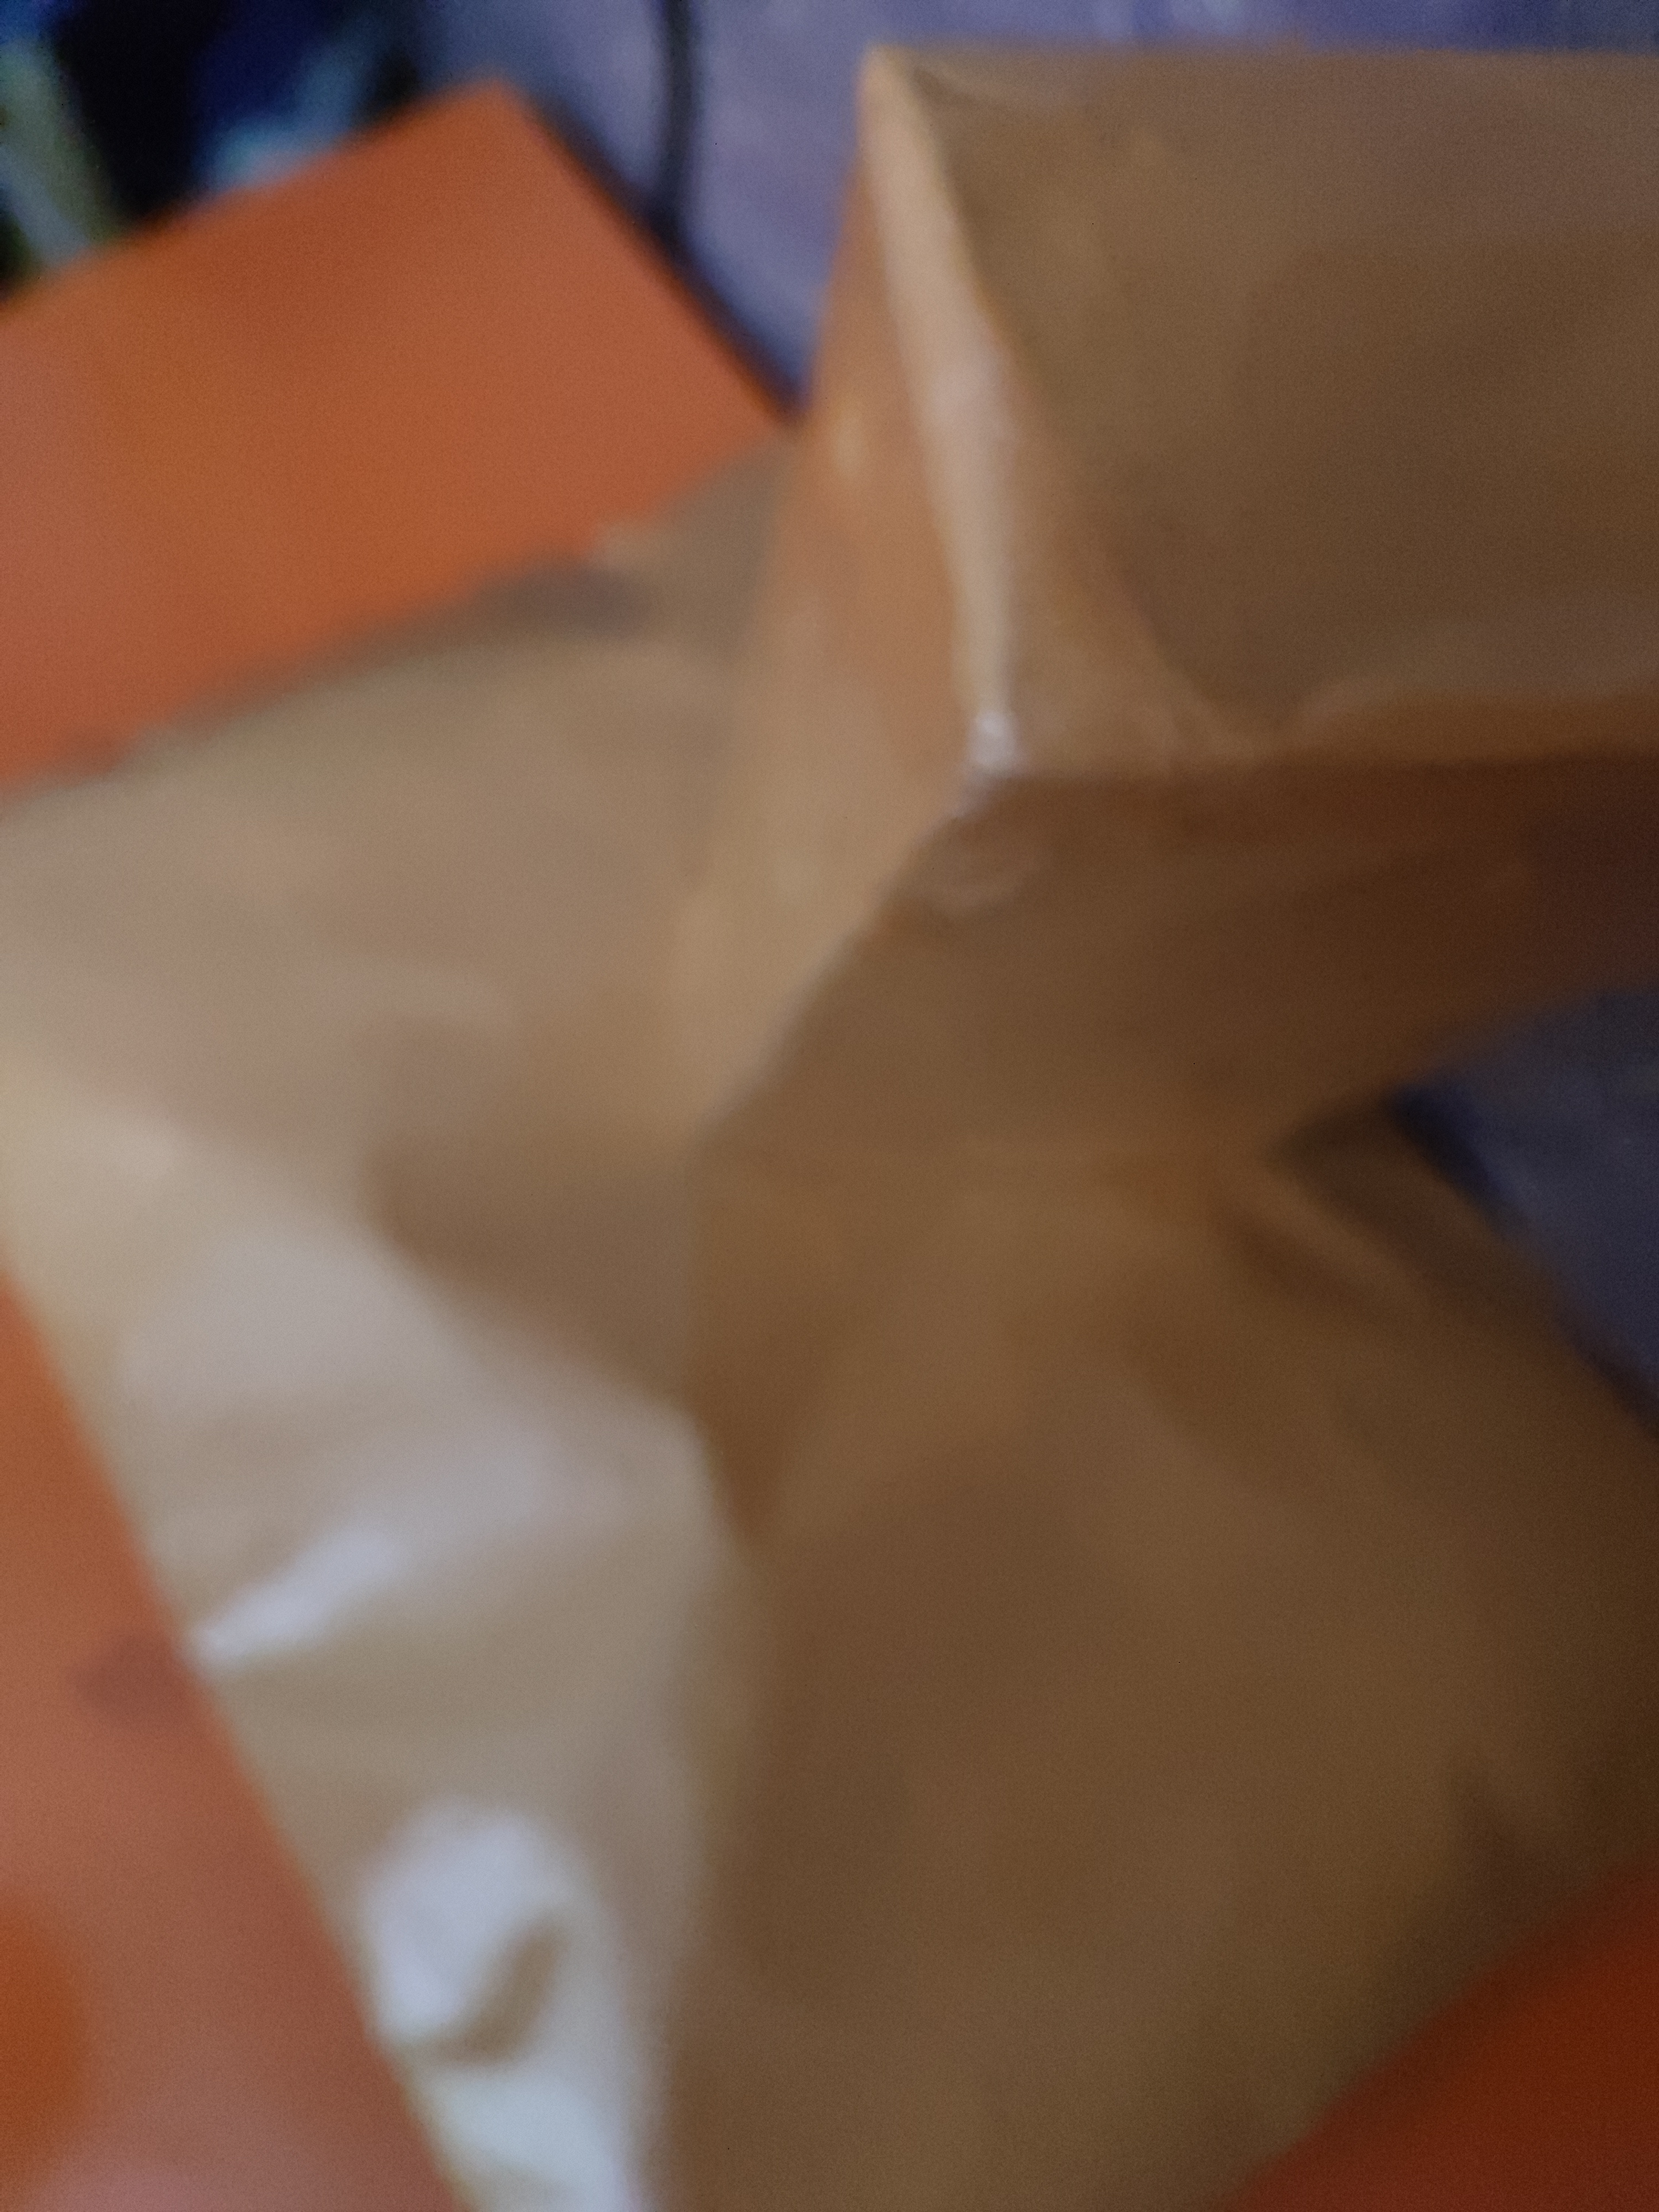Box: (608, 96, 1551, 1195)
